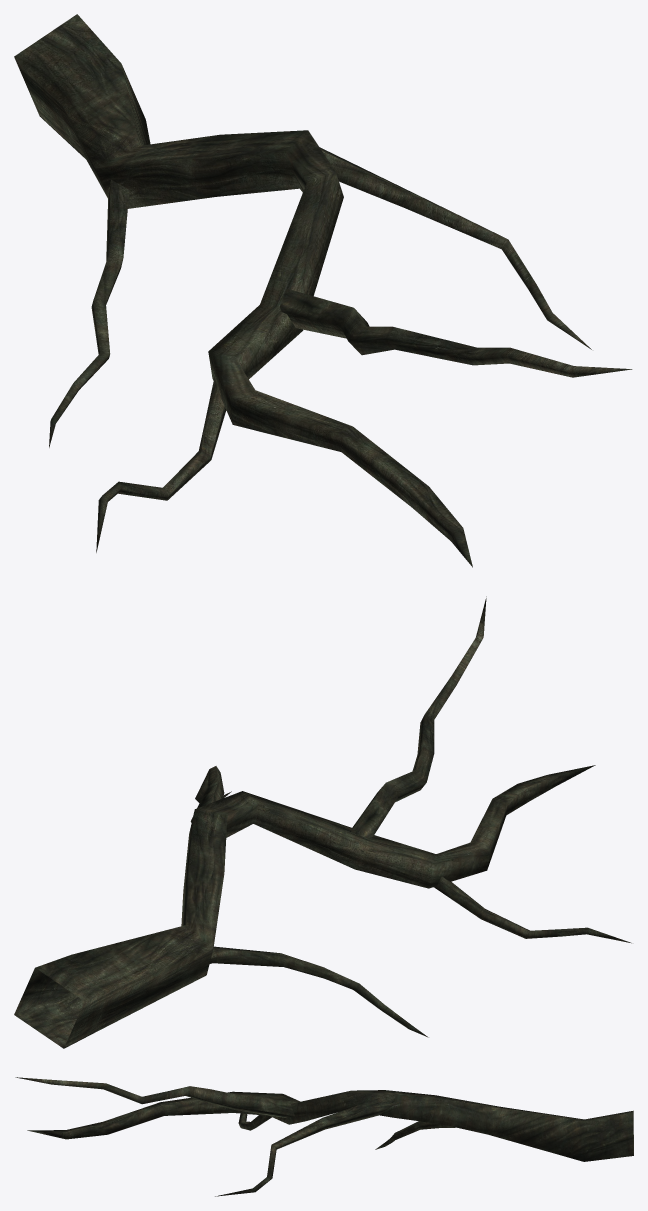
Rendered from Tree3.fbx.
3 renders of one model, top to bottom at view 1: azimuth 30°, elevation 25°; view 2: azimuth 150°, elevation 25°; view 3: azimuth 270°, elevation 25°, orthographic. The views are drawn at different scales.
Parts seen in each view (by area): view 1: Tree3; view 2: Tree3; view 3: Tree3.
Part boxes in pixels (<box>): Tree3: <box>14,14,632,567</box>; Tree3: <box>14,596,631,1048</box>; Tree3: <box>15,1077,633,1196</box>.
Bounding box in the file's own units: 10.3 × 5.04 × 20.03.
